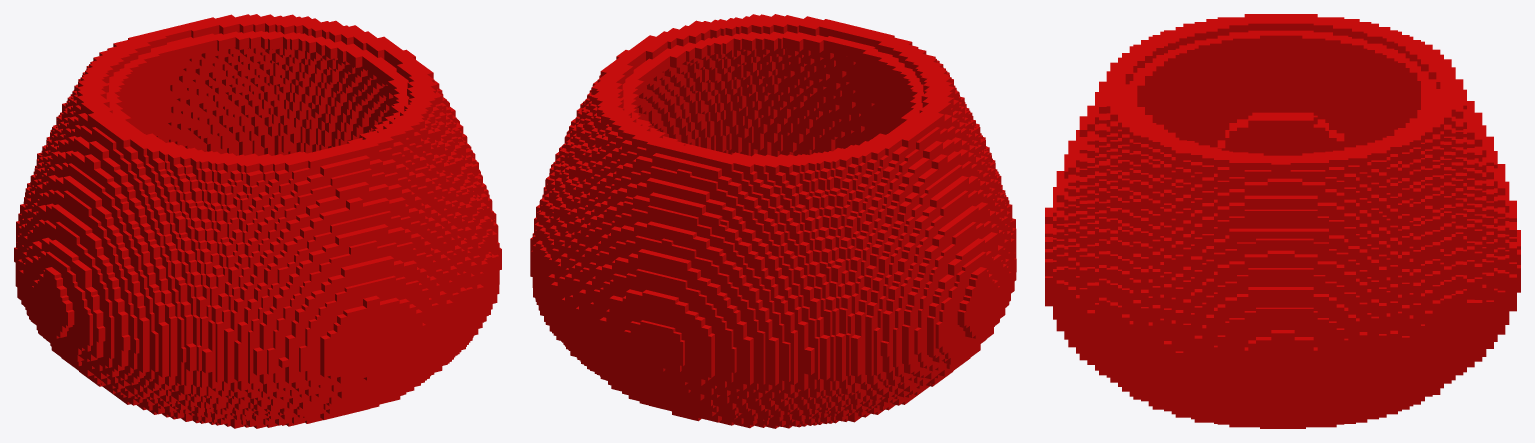
File: pot.fbx
3 renders of one model, left to right at view 1: azimuth 30°, elevation 25°; view 2: azimuth 150°, elevation 25°; view 3: azimuth 270°, elevation 25°, orthographic.
Visible parts, largest first — view 1: ObjObject.003; view 2: ObjObject.003; view 3: ObjObject.003.
Boxes of the visible parts, box(x1,y1,x2,y2) form: ObjObject.003: box(14, 14, 501, 428); ObjObject.003: box(530, 14, 1016, 428); ObjObject.003: box(1045, 14, 1520, 428).
Size of the model in its own units: 1260 by 780 by 1240.
